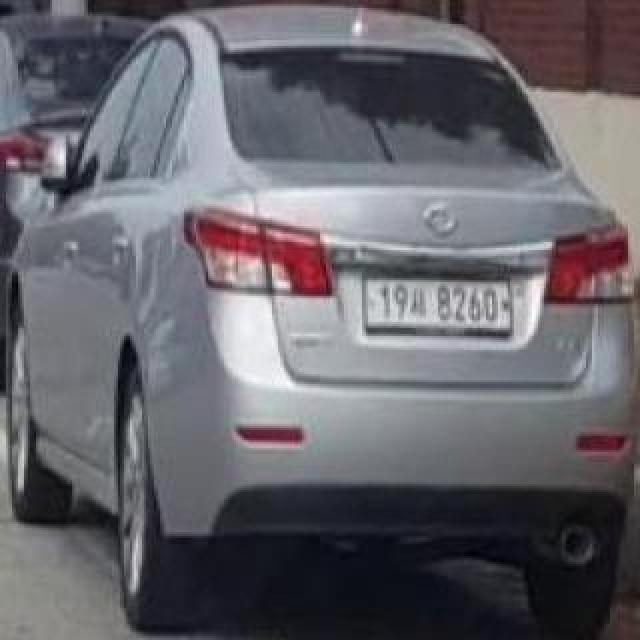car: (0, 3, 640, 639)
illegal_plate: (365, 272, 510, 342)
